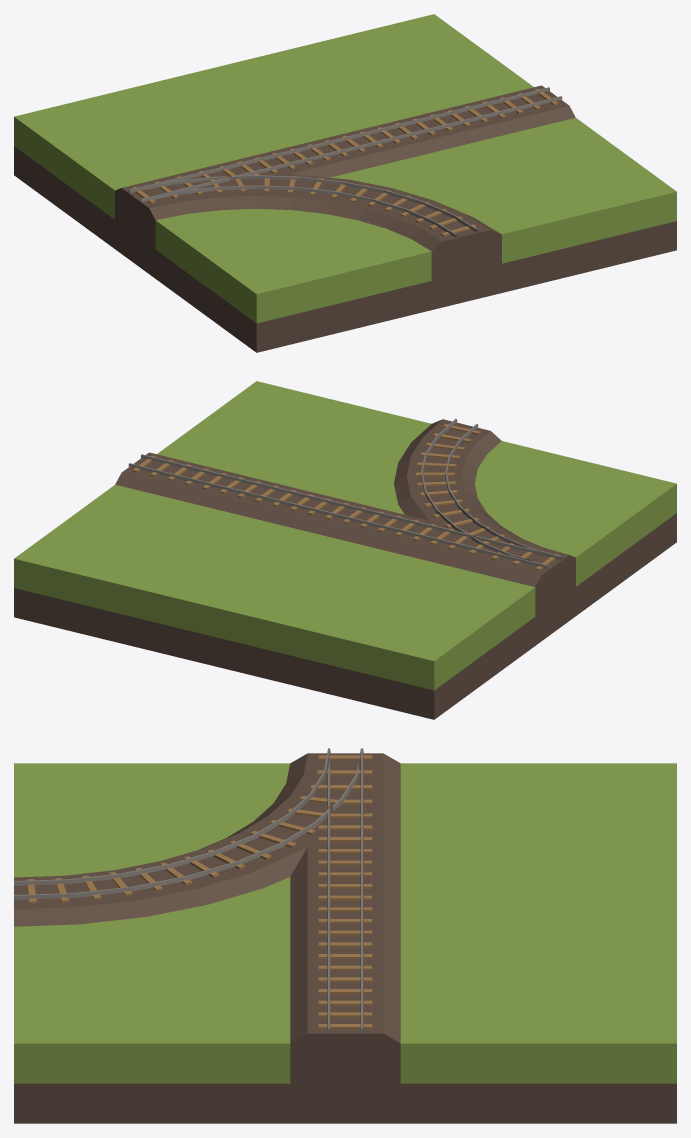
File: rail-tile-y_02.fbx
3 renders of one model, top to bottom at view 1: azimuth 30°, elevation 25°; view 2: azimuth 150°, elevation 25°; view 3: azimuth 270°, elevation 25°, orthographic. The views are drawn at different scales.
Visible parts, largest first — view 1: rail-tile-y_02; view 2: rail-tile-y_02; view 3: rail-tile-y_02.
Part boxes in pixels (<box>): rail-tile-y_02: <box>14,14,676,352</box>; rail-tile-y_02: <box>14,381,676,719</box>; rail-tile-y_02: <box>14,748,676,1123</box>.
Size of the model in its own units: 3001 by 475 by 3000.
